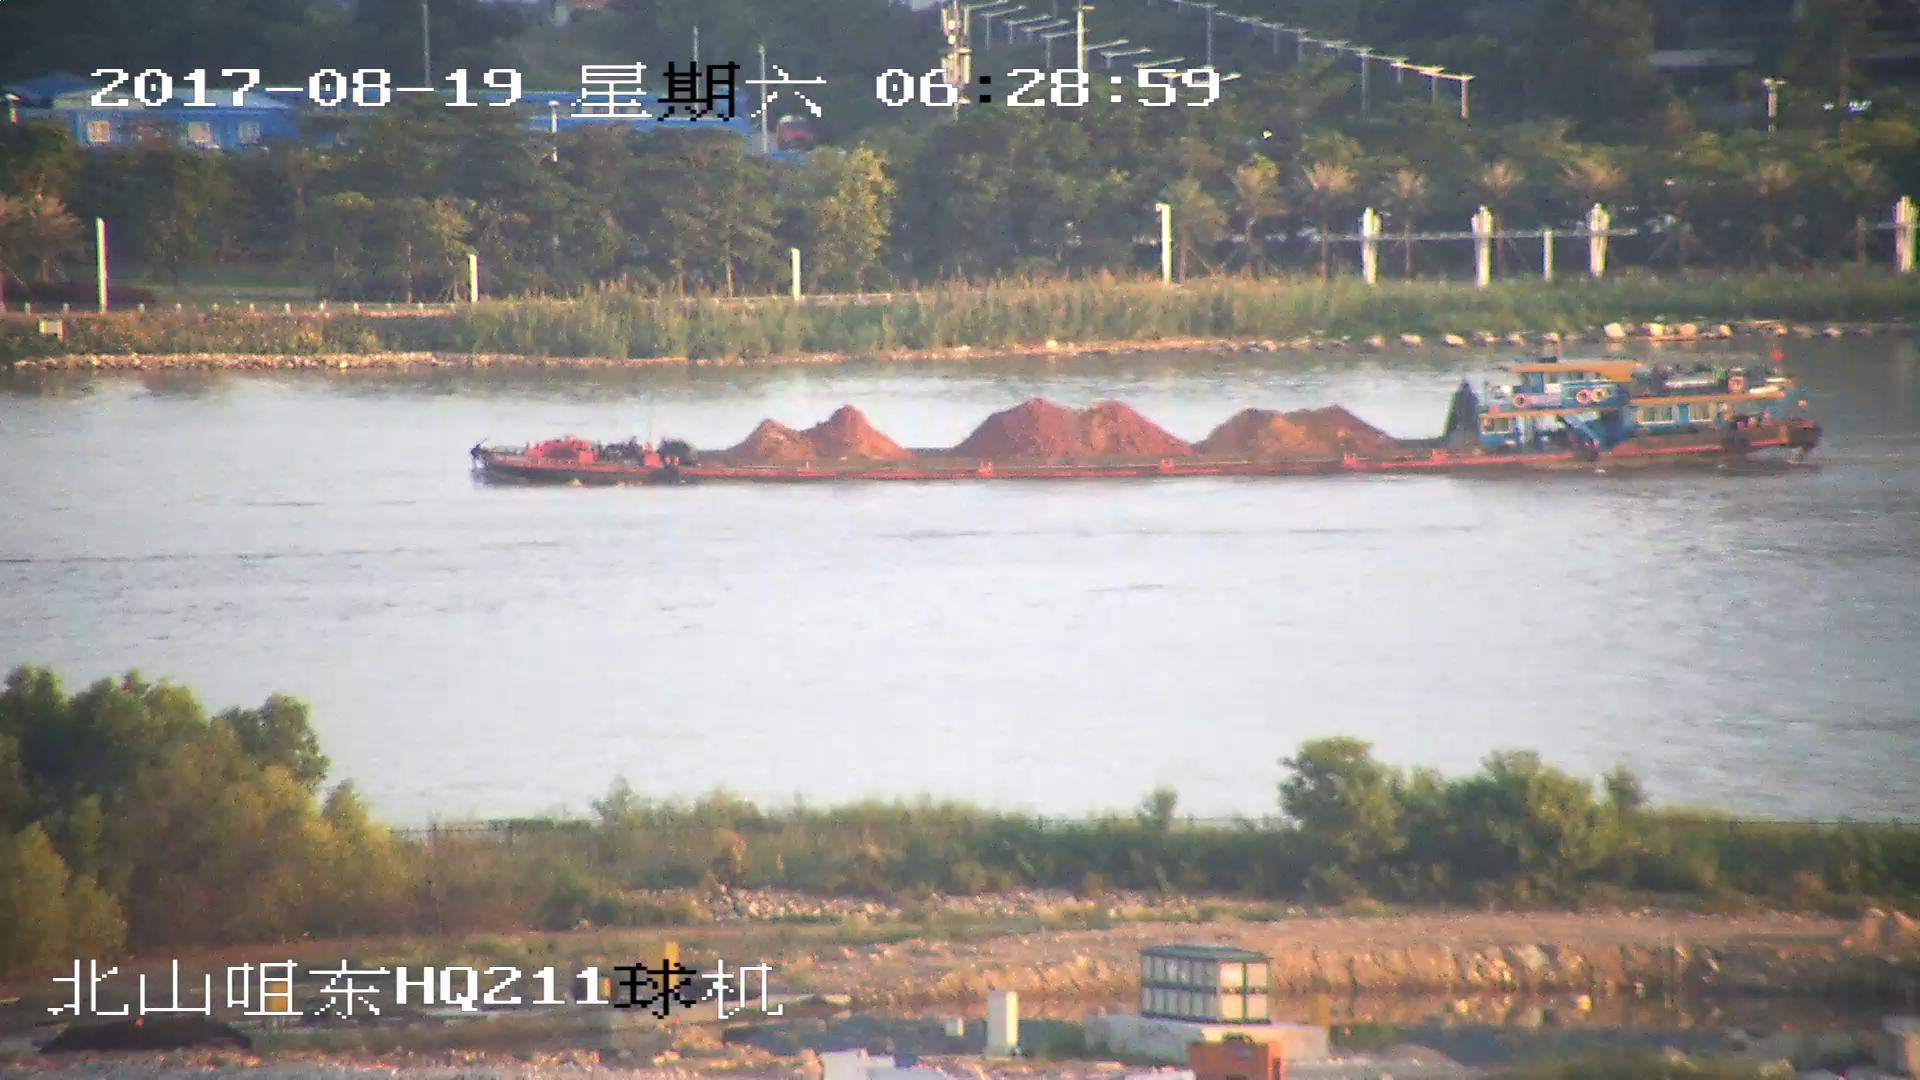Ship: (467, 348, 1828, 485)
